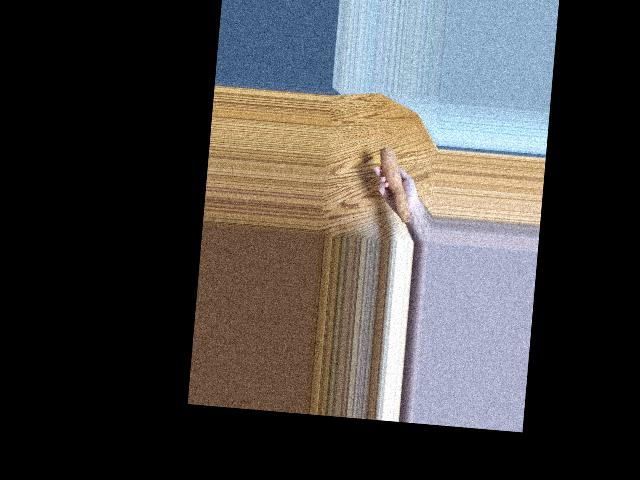sweet_potato: (372, 145, 417, 225)
